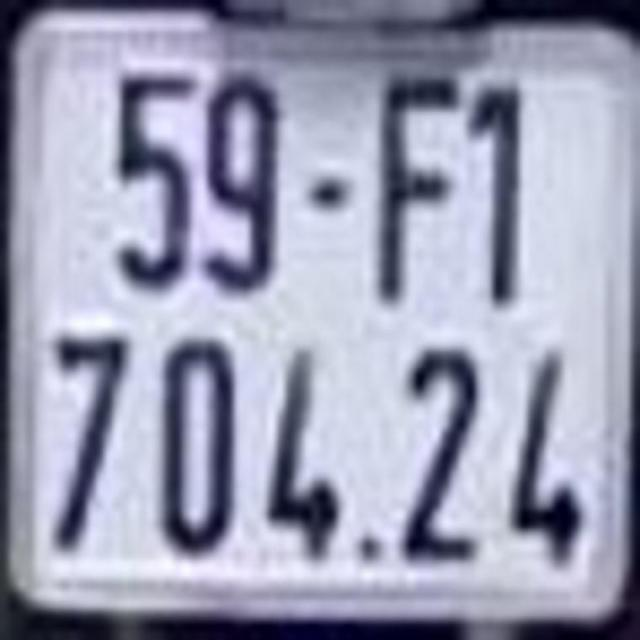0: (159, 333, 237, 550)
1: (467, 71, 532, 307)
2: (398, 343, 485, 563)
4: (509, 342, 602, 572), (259, 344, 352, 555)
5: (110, 66, 197, 292)
7: (53, 320, 123, 554)
9: (200, 69, 286, 308)
F: (375, 63, 460, 304)
